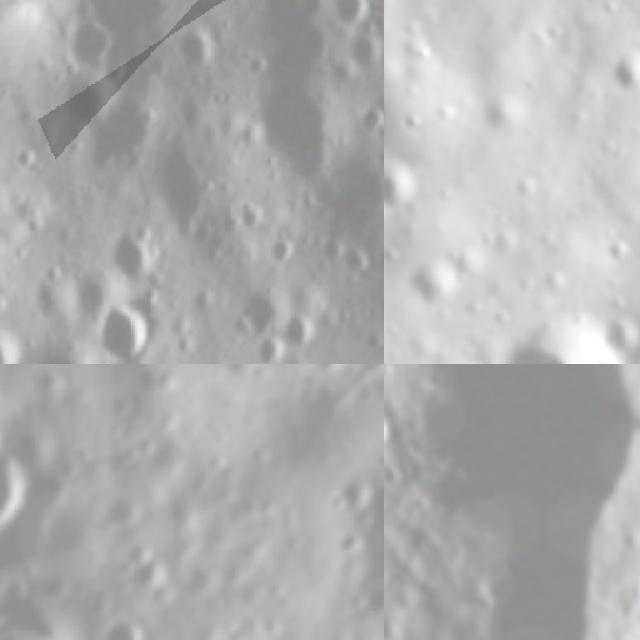crater: (231, 61, 351, 193), (323, 405, 384, 618), (0, 415, 59, 566), (498, 304, 640, 364), (281, 369, 357, 447), (320, 152, 384, 238), (93, 222, 168, 294), (85, 295, 160, 364), (408, 260, 486, 316), (54, 4, 116, 72), (162, 21, 224, 78), (96, 480, 154, 540), (325, 461, 382, 520), (125, 548, 178, 602), (89, 599, 158, 640), (29, 555, 81, 607), (208, 549, 258, 601), (112, 530, 160, 582), (384, 163, 429, 218), (272, 308, 321, 358), (346, 569, 384, 632), (319, 0, 381, 36), (176, 557, 222, 604), (94, 383, 140, 430), (326, 520, 372, 566), (341, 26, 384, 75), (384, 390, 409, 467), (146, 398, 188, 441), (1, 139, 43, 181), (230, 197, 271, 239), (15, 344, 100, 364), (239, 364, 327, 383), (333, 242, 373, 282), (195, 439, 235, 479), (597, 232, 640, 269), (243, 330, 288, 364), (128, 426, 166, 466), (0, 317, 31, 364), (126, 364, 165, 401), (210, 204, 246, 244), (612, 48, 640, 96), (238, 48, 274, 83), (350, 375, 384, 411), (262, 238, 296, 272), (100, 408, 134, 442), (315, 232, 346, 268), (300, 364, 351, 385), (402, 108, 432, 136), (188, 216, 213, 249), (0, 376, 16, 422), (369, 117, 384, 148)
